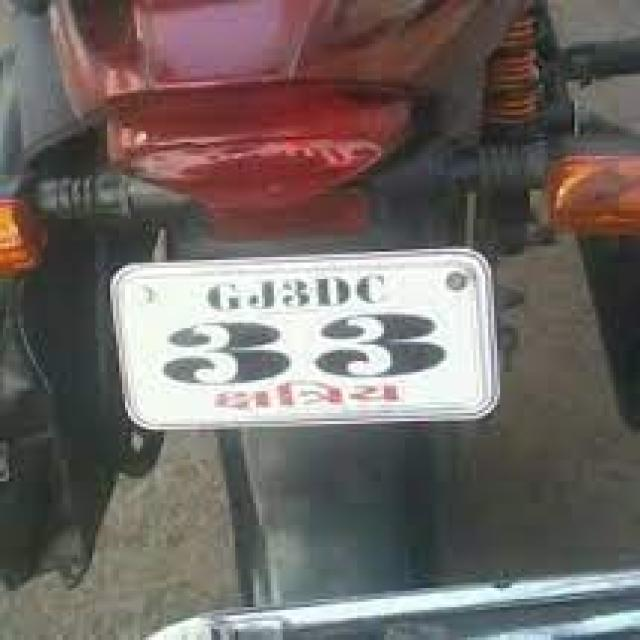license_plate: (104, 243, 500, 430)
